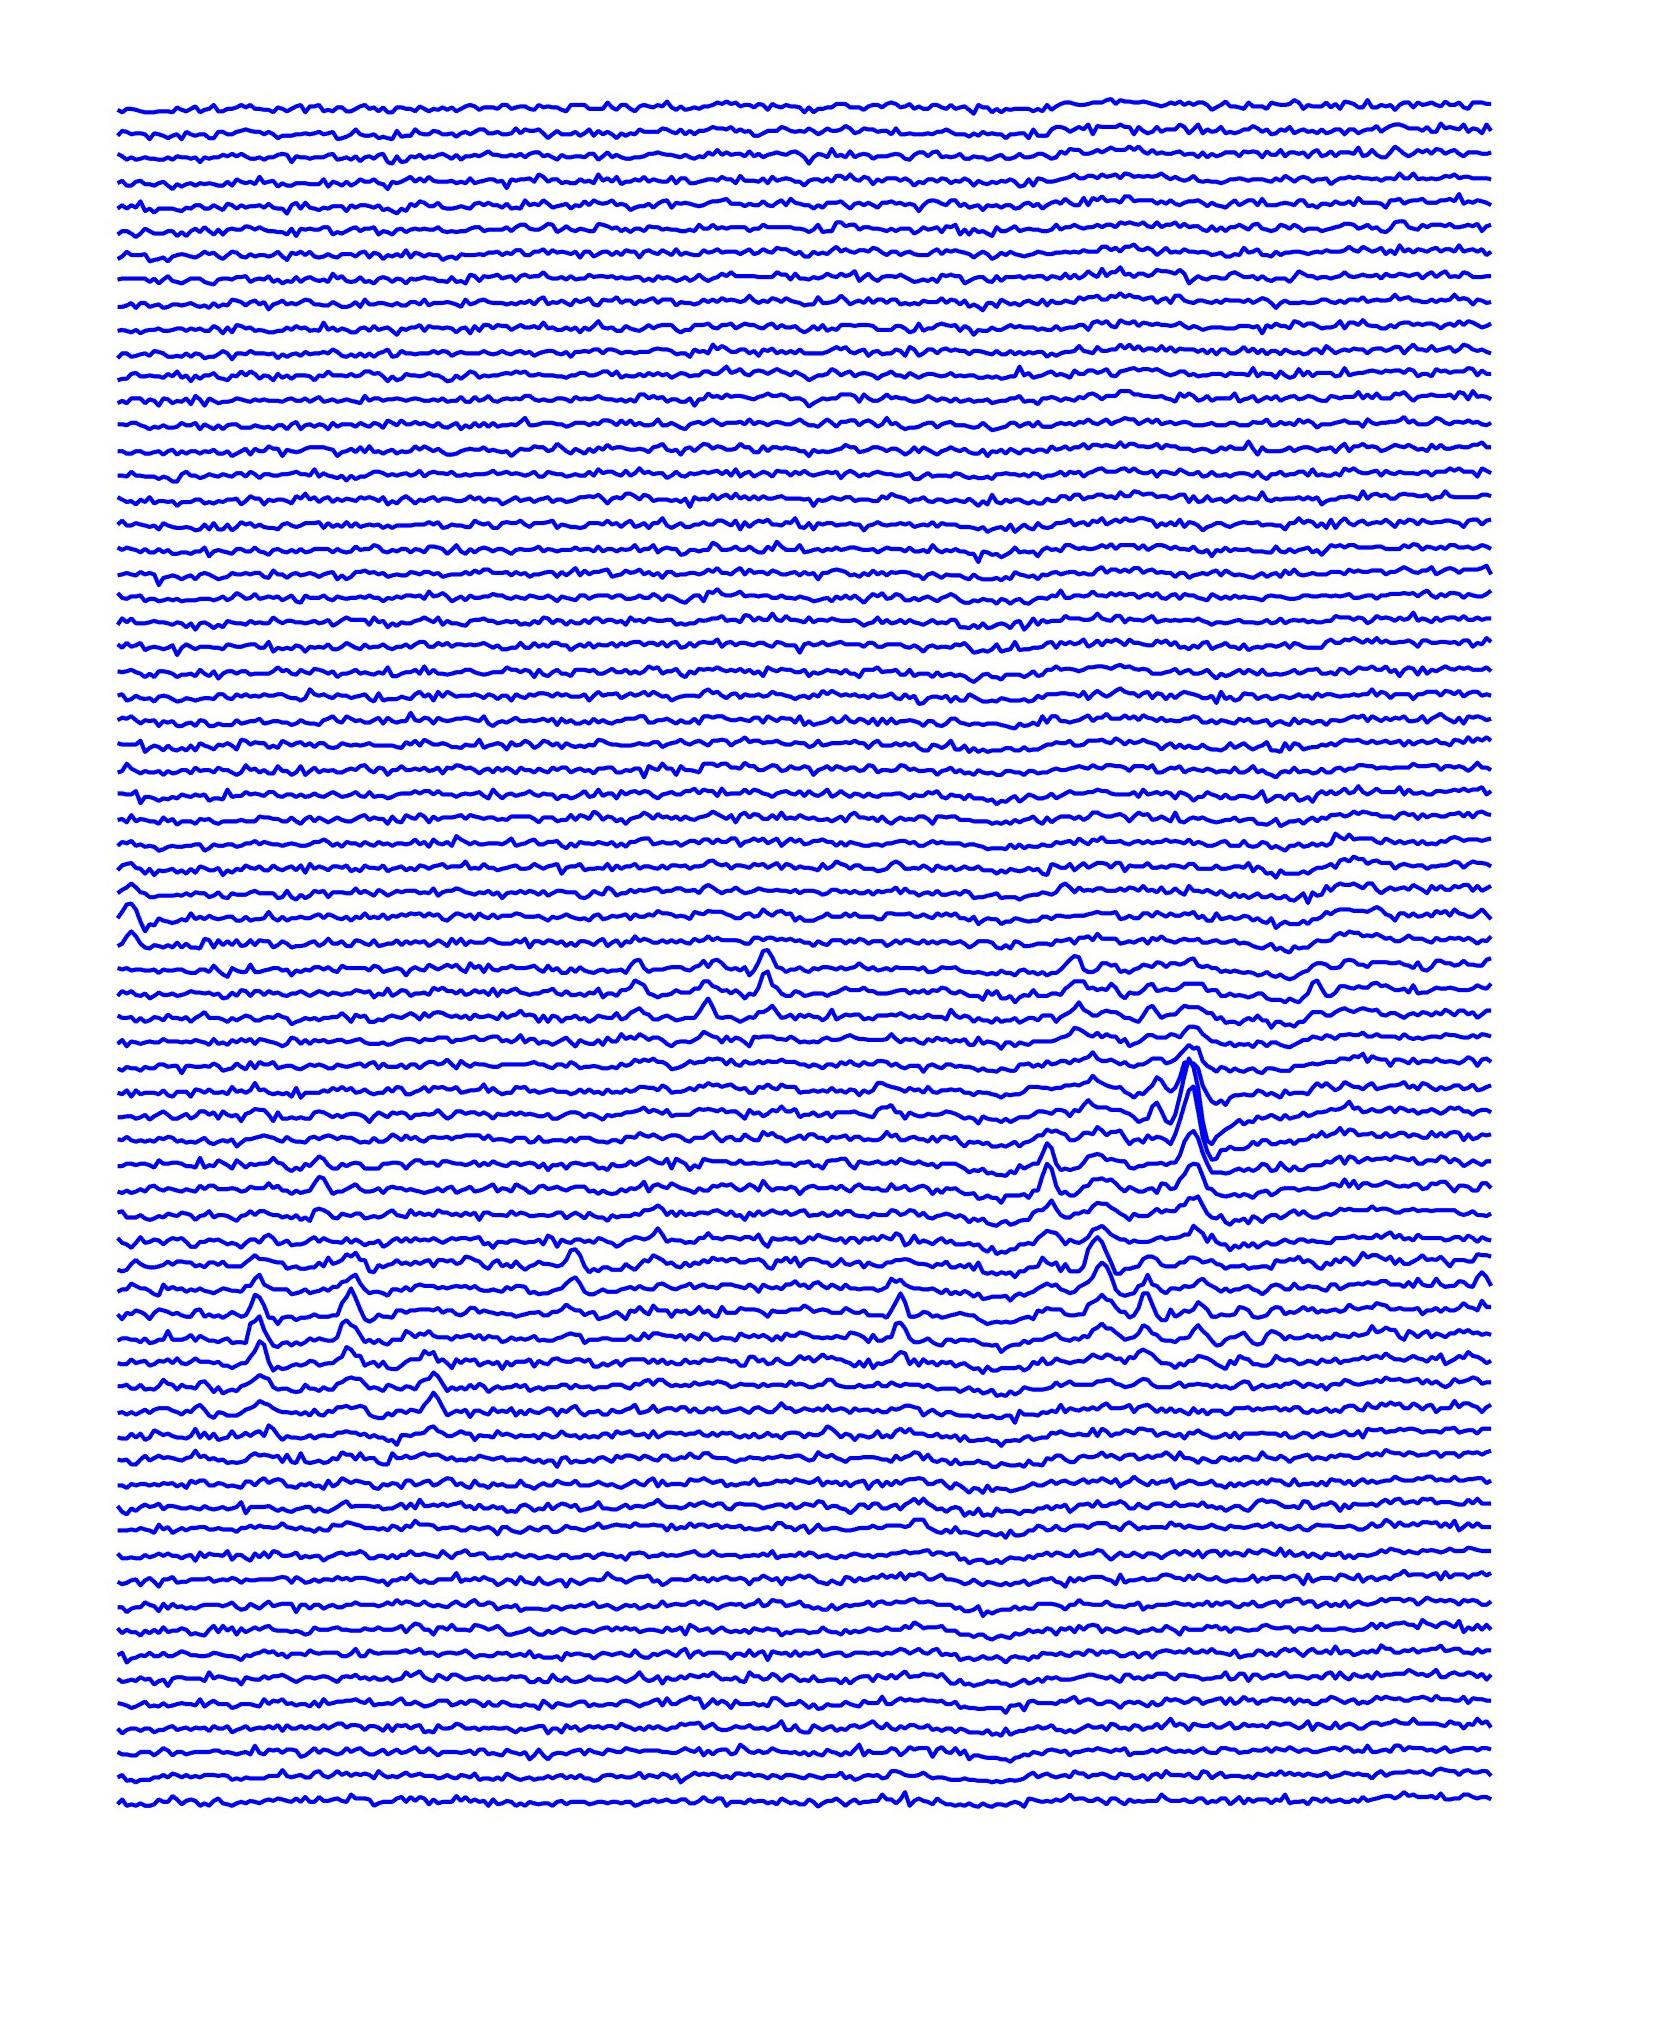defect: (603, 957, 813, 1022), (1073, 1233, 1184, 1346), (1157, 1033, 1207, 1198), (231, 1262, 283, 1395), (867, 1277, 935, 1380), (322, 1255, 376, 1373), (397, 1329, 456, 1432), (1025, 1129, 1084, 1225)
